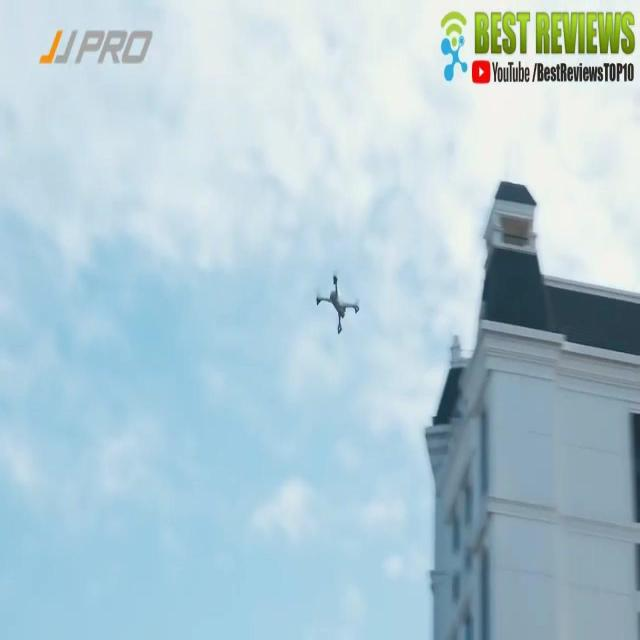drone: (314, 272, 362, 339)
